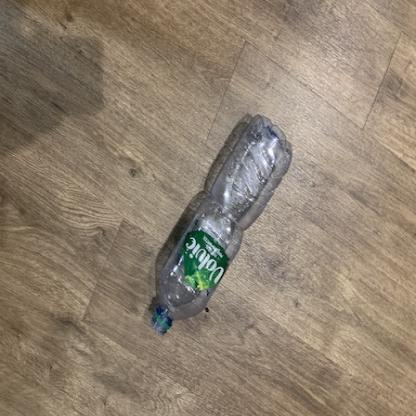trash: (147, 113, 295, 342)
